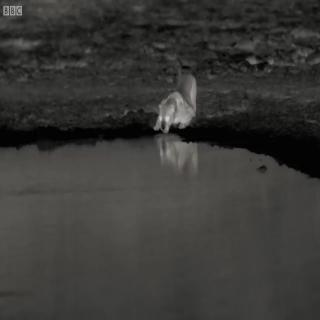Leopard: (152, 52, 206, 151)
